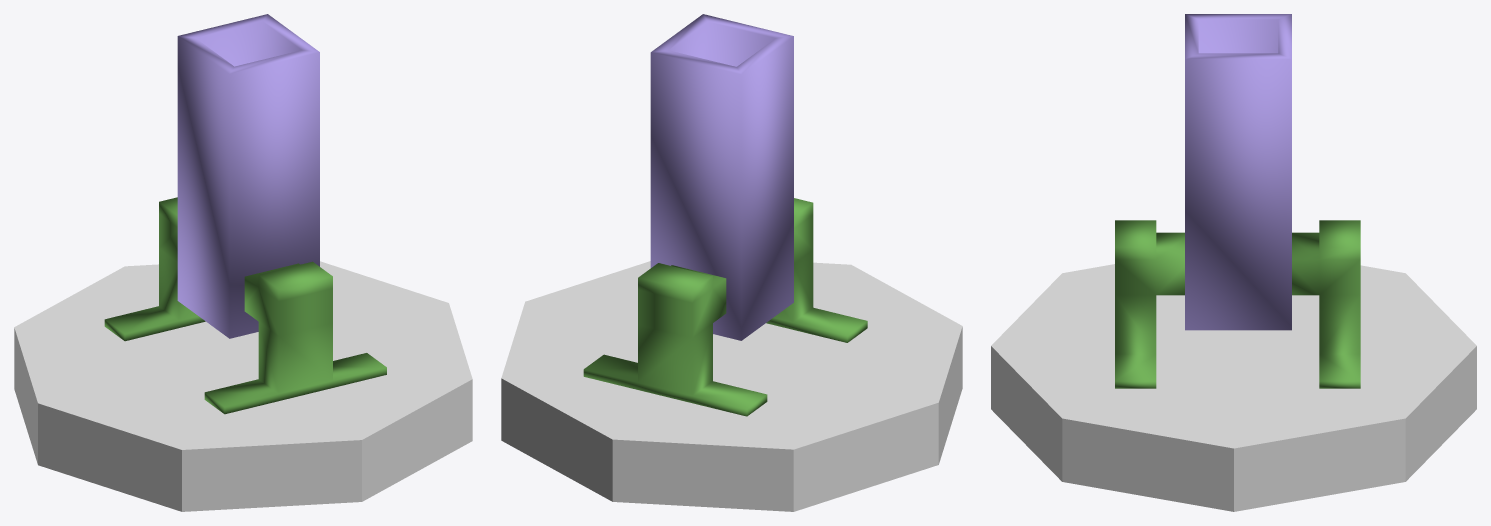
The model's file is missilelauncher.fbx.
3 renders of one model, left to right at view 1: azimuth 30°, elevation 25°; view 2: azimuth 150°, elevation 25°; view 3: azimuth 270°, elevation 25°, orthographic. The views are drawn at different scales.
Parts seen in each view (by area): view 1: Cylinder.007, Plane.007, Plane.009, Plane.008; view 2: Cylinder.007, Plane.007, Plane.008, Plane.009; view 3: Cylinder.007, Plane.007, Plane.009, Plane.008.
Boxes of the visible parts, left/top/right/bottom form: Cylinder.007: left=14, top=261, right=472, bottom=511; Plane.007: left=177, top=14, right=319, bottom=338; Plane.009: left=204, top=261, right=386, bottom=414; Plane.008: left=104, top=197, right=205, bottom=341; Cylinder.007: left=501, top=261, right=962, bottom=511; Plane.007: left=650, top=14, right=793, bottom=340; Plane.008: left=583, top=263, right=767, bottom=416; Plane.009: left=766, top=198, right=867, bottom=342; Cylinder.007: left=991, top=264, right=1476, bottom=511; Plane.007: left=1185, top=14, right=1291, bottom=330; Plane.009: left=1115, top=220, right=1184, bottom=388; Plane.008: left=1292, top=220, right=1360, bottom=388.
Size of the model in its own units: 910 by 778 by 910.
